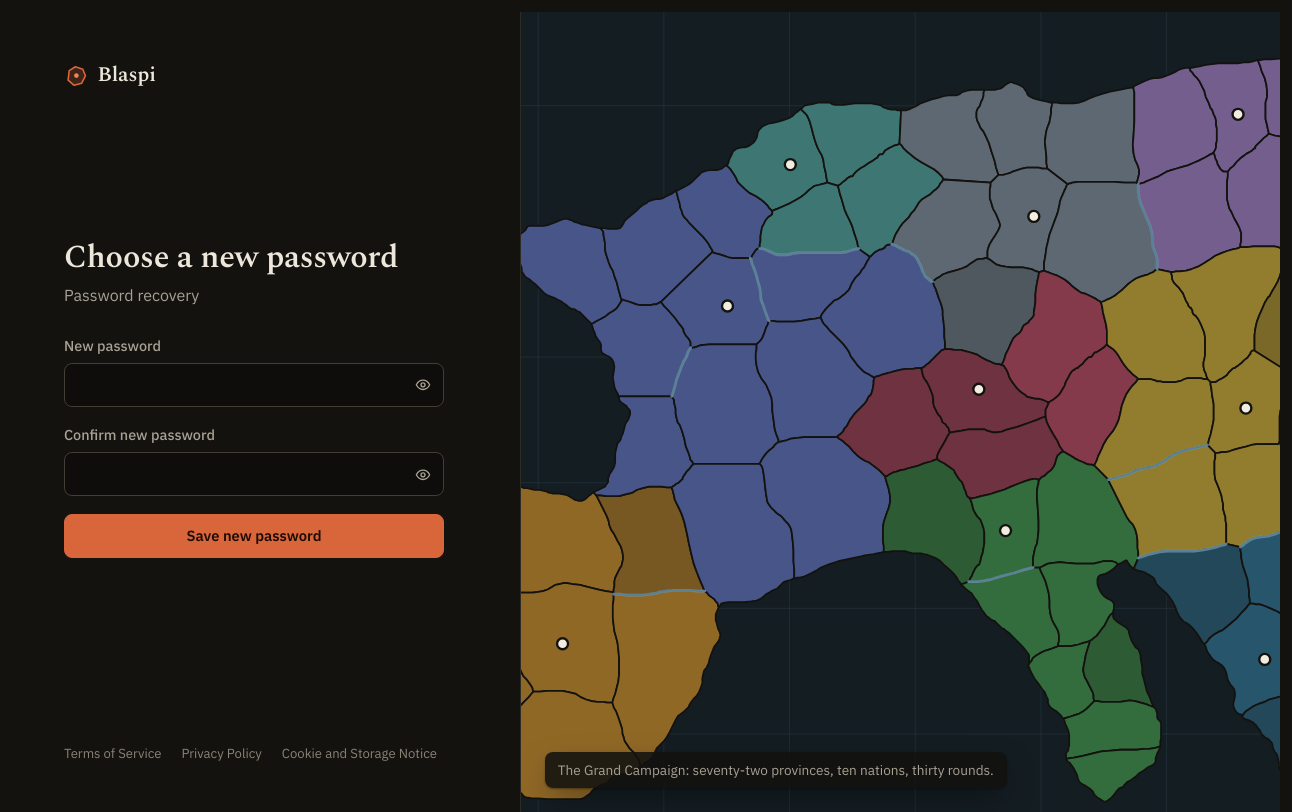
Test: ResetPasswordPage › checks the new password before sending it
Type "short" into the password field labelled "New password". click: (254, 385)
box: x1=64 y1=363 x2=444 y2=407
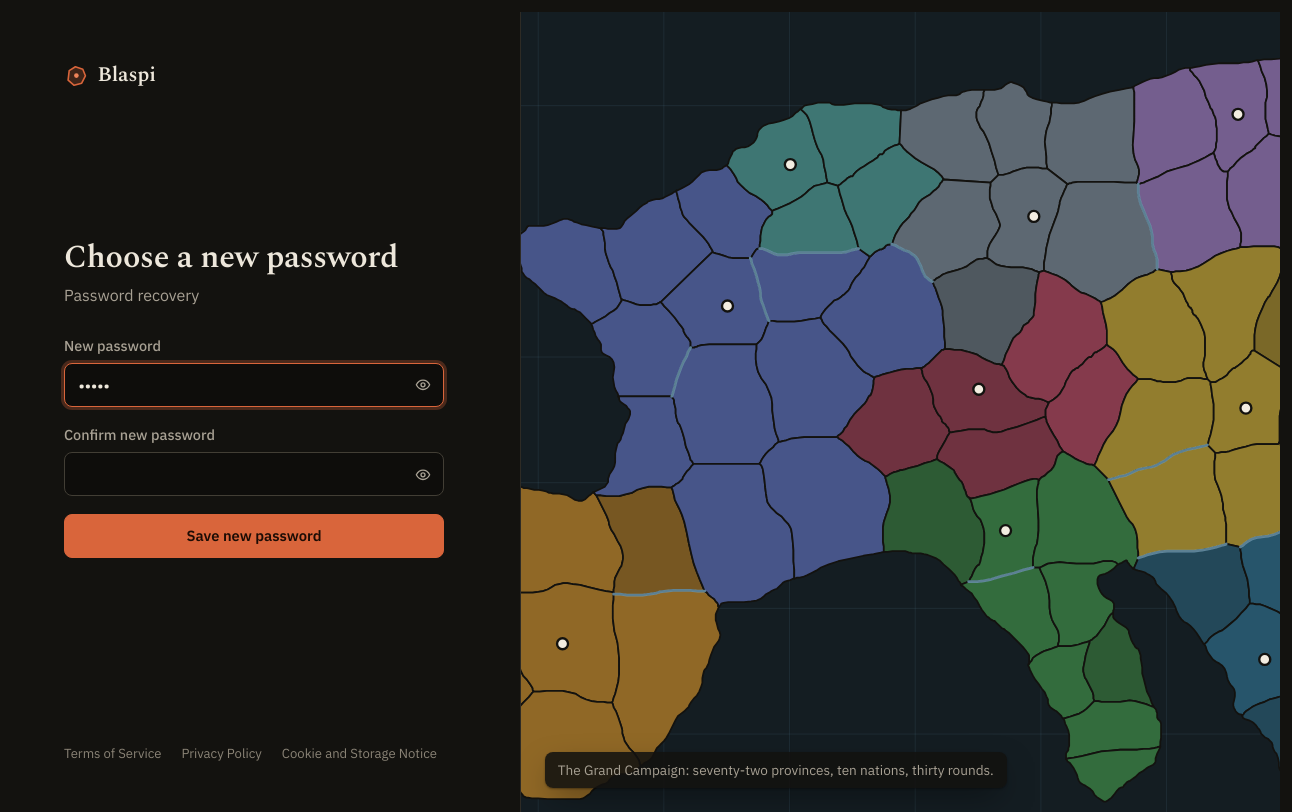
Type "short" into the password field labelled "Confirm new password". click: (254, 474)
box: x1=64 y1=452 x2=444 y2=496
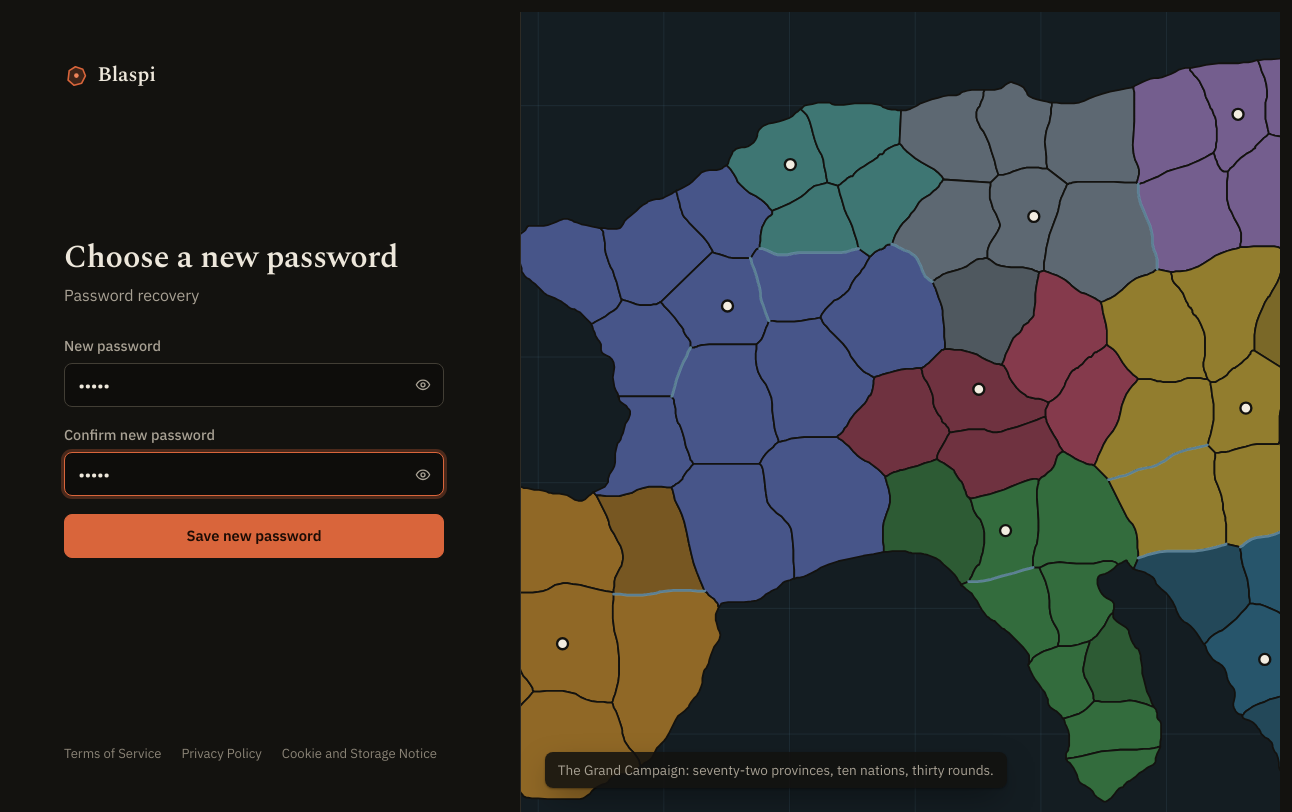
Click the button "Save new password". click: (254, 536)
box: x1=64 y1=514 x2=444 y2=558
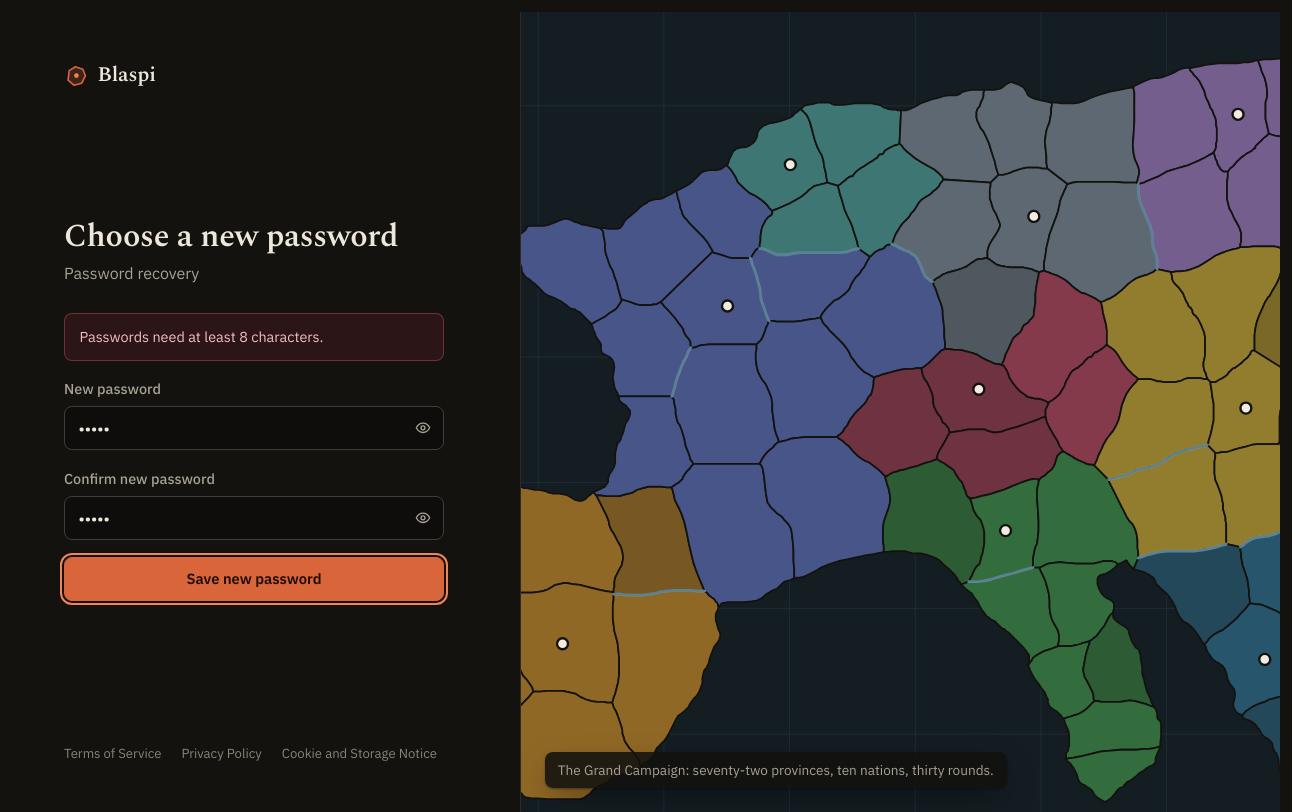
Now the message shows "at least 8 characters", box x1=79 y1=327 x2=324 y2=346
